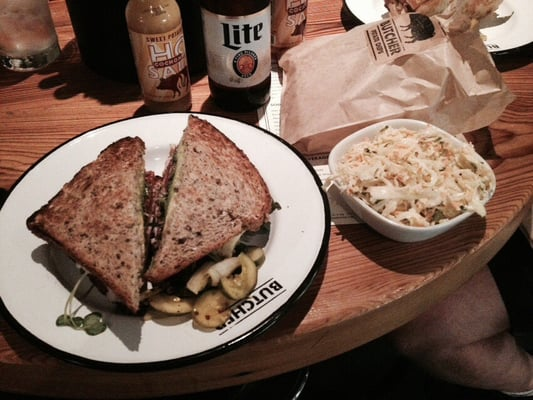soup: (25, 134, 153, 315), (144, 118, 273, 288)
sushi: (326, 119, 497, 244)
